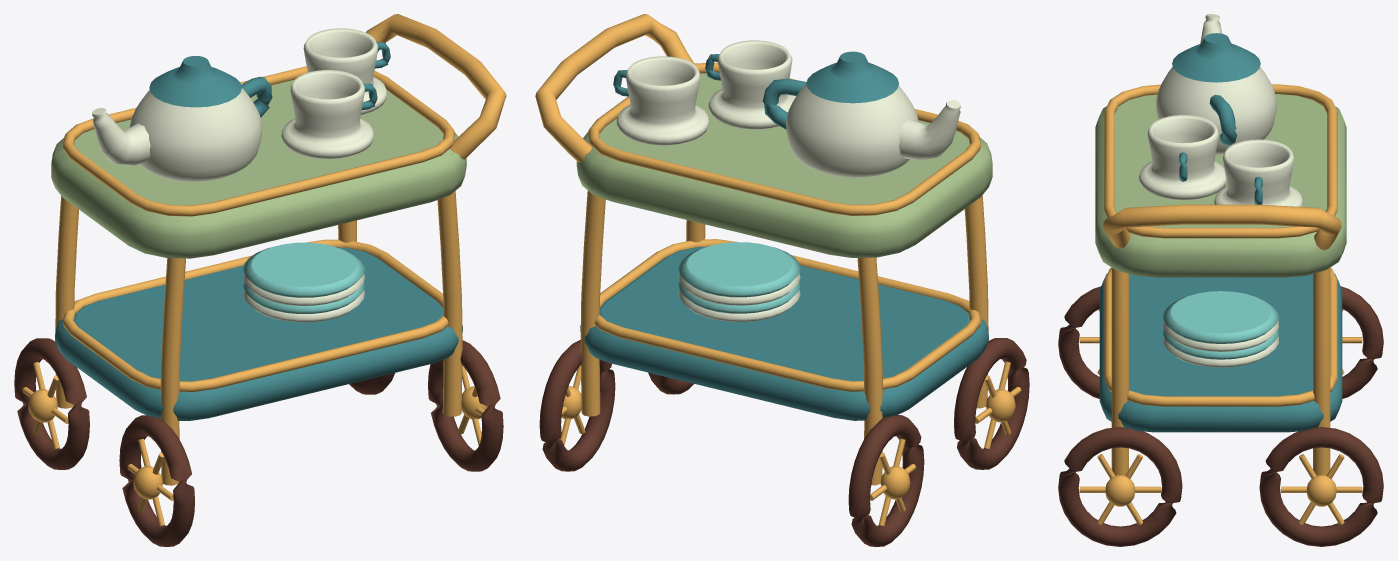
The model's file is atelier_tea_cart.glb.
3 renders of one model, left to right at view 1: azimuth 30°, elevation 25°; view 2: azimuth 150°, elevation 25°; view 3: azimuth 270°, elevation 25°, orthographic. The views are drawn at different scales.
Visible parts, largest first — view 1: Carrito de té; view 2: Carrito de té; view 3: Carrito de té.
Part boxes in pixels (<box>): Carrito de té: <box>14,14,506,546</box>; Carrito de té: <box>535,14,1029,546</box>; Carrito de té: <box>1058,14,1383,546</box>.
Bounding box in the file's own units: 0.924 × 0.9862 × 0.7183.
